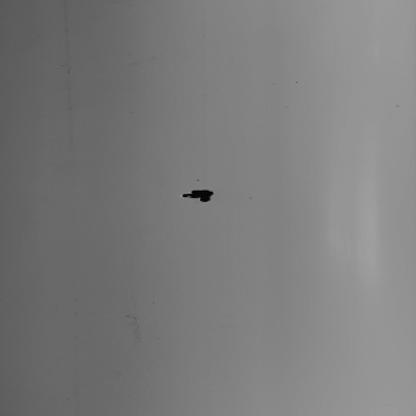kongdong: (179, 187, 224, 213)
